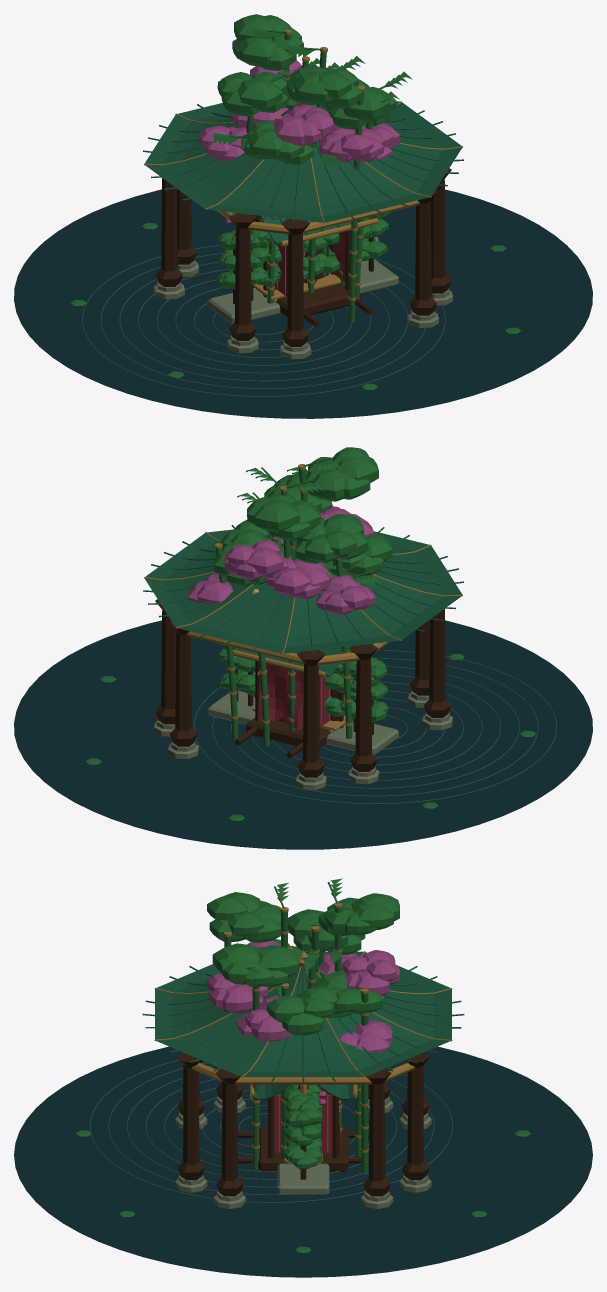
File: jade_veil.glb
The picture shows the model from 3 angles, top to bottom: view 1: azimuth 30°, elevation 25°; view 2: azimuth 150°, elevation 25°; view 3: azimuth 270°, elevation 25°; orthographic projection.
Visible parts, largest first — view 1: LakeSurface_water, LakePavilion_roof, BambooGrove_leaf, LakePavilion_wood, IllusionTree_blossom, LakeSurface_mirror, HedgeWall_leaf, LakePavilion_stone, HedgeWall_stone, Palanquin_wood, LakePavilion_trim, Palanquin_cloth (+4 smaller); view 2: LakeSurface_water, LakePavilion_roof, BambooGrove_leaf, LakePavilion_wood, IllusionTree_blossom, LakeSurface_mirror, HedgeWall_leaf, Palanquin_cloth, LakePavilion_stone, HedgeWall_stone, LakePavilion_trim, Palanquin_wood (+3 smaller); view 3: LakeSurface_water, BambooGrove_leaf, LakePavilion_roof, LakePavilion_wood, IllusionTree_blossom, HedgeWall_leaf, LakeSurface_mirror, LakePavilion_trim, Palanquin_wood, LakePavilion_stone, HedgeWall_stone, Palanquin_cloth (+2 smaller).
Boxes of the visible parts, bbox=[...] form: LakeSurface_water: bbox=[14, 189, 592, 418]; LakePavilion_roof: bbox=[143, 101, 463, 223]; BambooGrove_leaf: bbox=[213, 14, 412, 322]; LakePavilion_wood: bbox=[155, 168, 451, 346]; IllusionTree_blossom: bbox=[199, 60, 400, 162]; LakeSurface_mirror: bbox=[82, 245, 445, 396]; HedgeWall_leaf: bbox=[217, 212, 390, 289]; LakePavilion_stone: bbox=[154, 237, 452, 359]; HedgeWall_stone: bbox=[208, 259, 398, 323]; Palanquin_wood: bbox=[253, 215, 372, 327]; LakePavilion_trim: bbox=[144, 101, 462, 234]; Palanquin_cloth: bbox=[259, 219, 345, 296]; LakeSurface_water: bbox=[14, 620, 592, 849]; LakePavilion_roof: bbox=[143, 525, 463, 654]; BambooGrove_leaf: bbox=[214, 447, 392, 746]; LakePavilion_wood: bbox=[155, 599, 451, 777]; IllusionTree_blossom: bbox=[187, 506, 375, 615]; LakeSurface_mirror: bbox=[193, 650, 556, 804]; HedgeWall_leaf: bbox=[219, 644, 388, 722]; Palanquin_cloth: bbox=[258, 663, 344, 730]; LakePavilion_stone: bbox=[154, 672, 452, 790]; HedgeWall_stone: bbox=[208, 690, 398, 754]; LakePavilion_trim: bbox=[144, 532, 462, 665]; Palanquin_wood: bbox=[234, 646, 351, 758]; LakeSurface_water: bbox=[14, 1046, 592, 1277]; BambooGrove_leaf: bbox=[207, 878, 399, 1174]; LakePavilion_roof: bbox=[142, 951, 464, 1082]; LakePavilion_wood: bbox=[177, 1052, 429, 1196]; IllusionTree_blossom: bbox=[207, 940, 399, 1052]; HedgeWall_leaf: bbox=[283, 1084, 322, 1169]; LakeSurface_mirror: bbox=[89, 1060, 452, 1203]; LakePavilion_trim: bbox=[154, 951, 452, 1084]; Palanquin_wood: bbox=[237, 1096, 369, 1171]; LakePavilion_stone: bbox=[175, 1096, 431, 1208]; HedgeWall_stone: bbox=[277, 1163, 329, 1194]; Palanquin_cloth: bbox=[274, 1090, 342, 1153].
Size of the model in its own units: 18 by 9 by 18.
